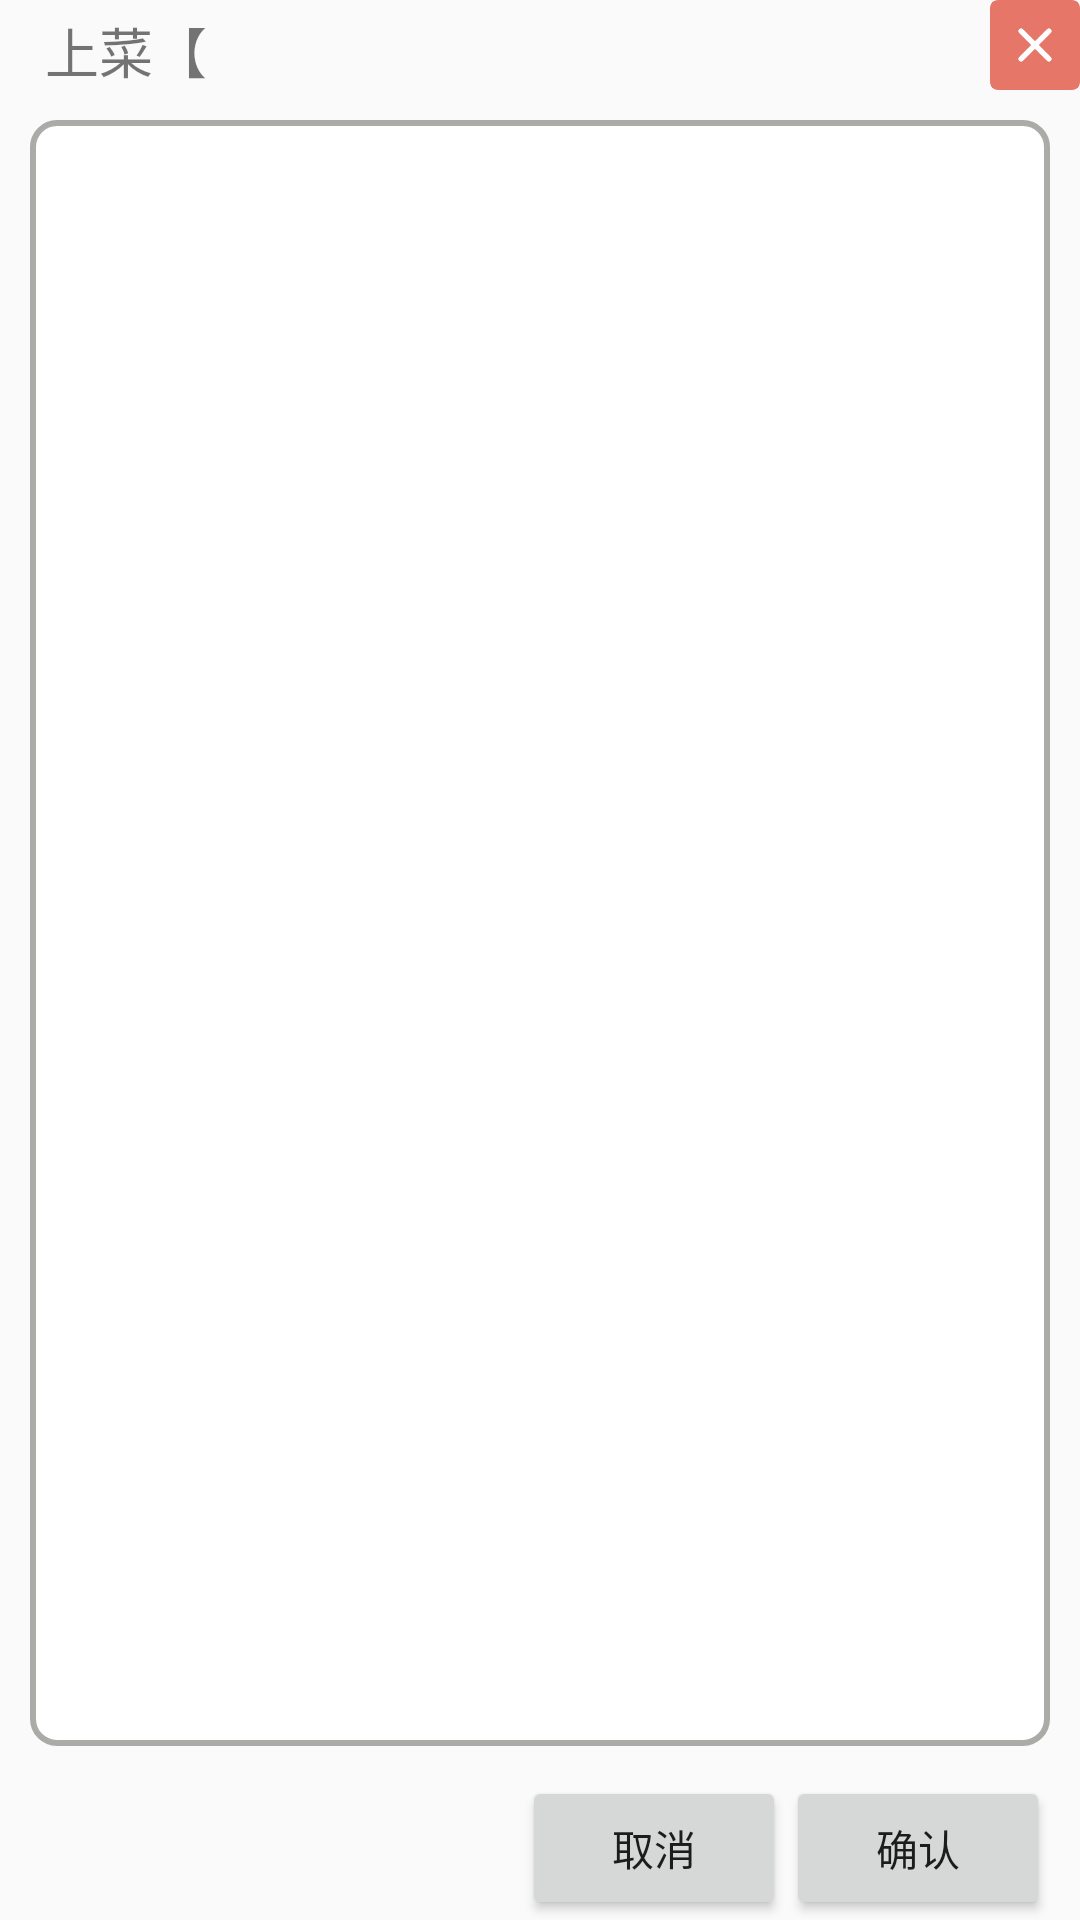

Point at icon controls on the screen. Image size 1080×1920, points as (x=x, y=y).
close: (x=1035, y=45)
